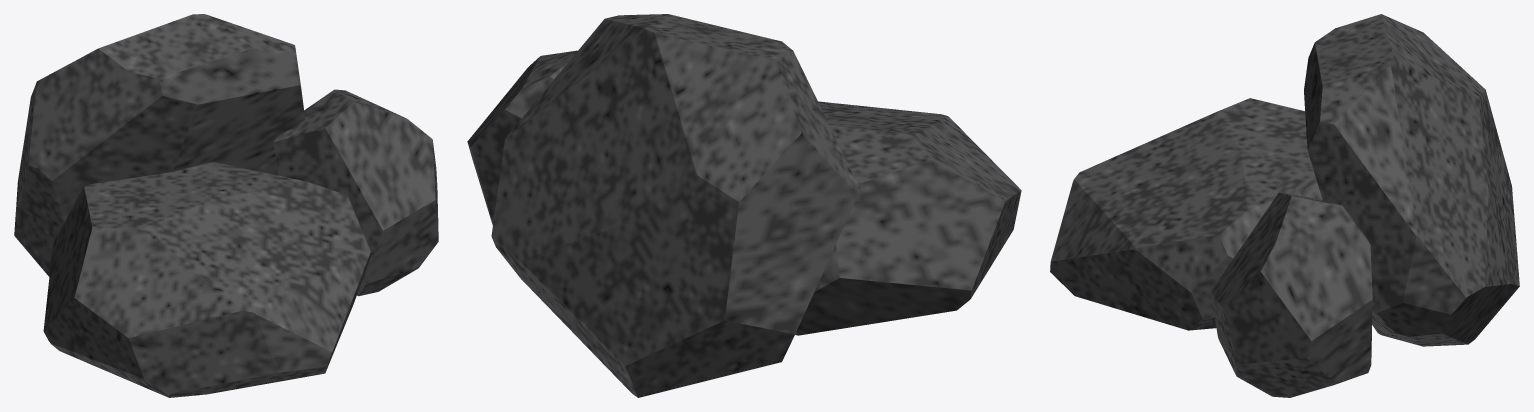
3 renders of one model, left to right at view 1: azimuth 30°, elevation 25°; view 2: azimuth 150°, elevation 25°; view 3: azimuth 270°, elevation 25°, orthographic. The views are drawn at different scales.
Visible parts, largest first — view 1: Rock Type2 02 mesh; view 2: Rock Type2 02 mesh; view 3: Rock Type2 02 mesh.
Part boxes in pixels (left/top/right/bottom): Rock Type2 02 mesh: left=14, top=14, right=438, bottom=397; Rock Type2 02 mesh: left=467, top=14, right=1021, bottom=397; Rock Type2 02 mesh: left=1050, top=14, right=1519, bottom=397.
Bounding box in the file's own units: 193 × 126 × 183.
